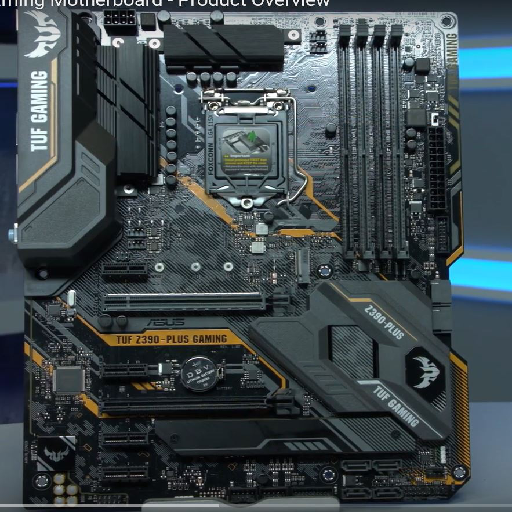CPU: (203, 106, 290, 208)
GPU: (100, 287, 292, 316), (100, 390, 297, 418)
MOTHERBOARD: (13, 5, 476, 510)
RAM: (334, 24, 409, 264)
SSD: (293, 244, 312, 287)
